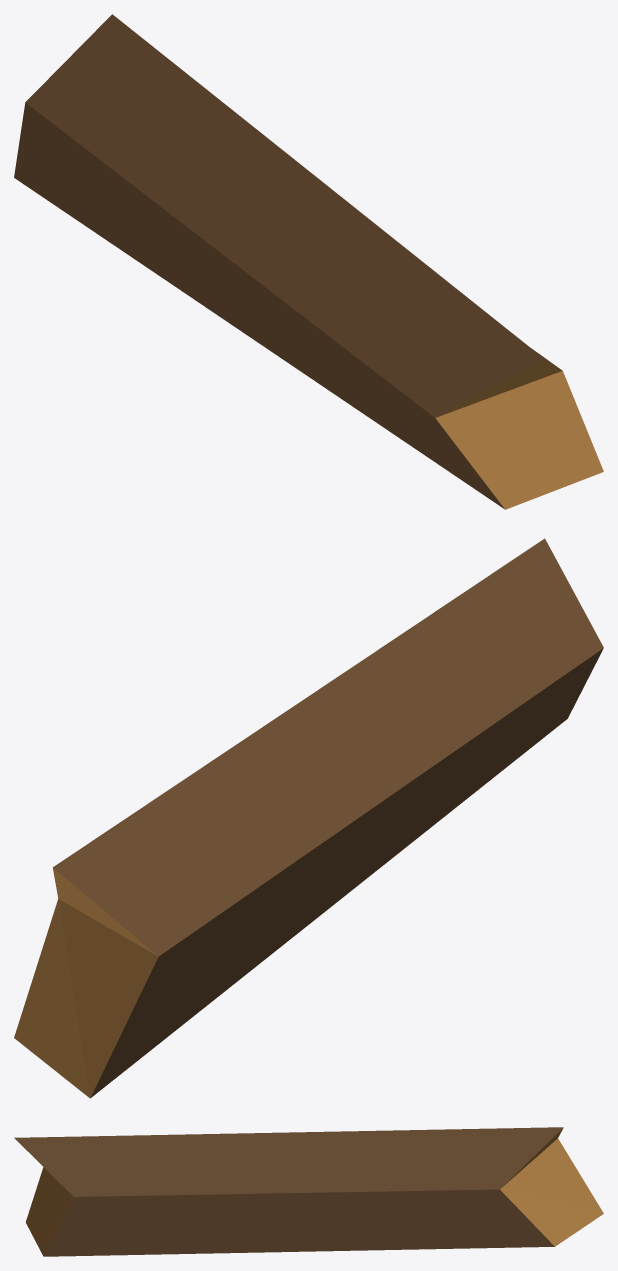
The model's file is tree-debris-a.fbx.
3 renders of one model, top to bottom at view 1: azimuth 30°, elevation 25°; view 2: azimuth 150°, elevation 25°; view 3: azimuth 270°, elevation 25°, orthographic. The views are drawn at different scales.
Visible parts, largest first — view 1: tree-debris-a; view 2: tree-debris-a; view 3: tree-debris-a.
Part boxes in pixels (x1=…): tree-debris-a: x1=14, y1=14, x2=603, y2=509; tree-debris-a: x1=14, y1=538, x2=603, y2=1098; tree-debris-a: x1=14, y1=1127, x2=603, y2=1256.
Bounding box in the file's own units: 0.3176 × 0.3114 × 1.56.
